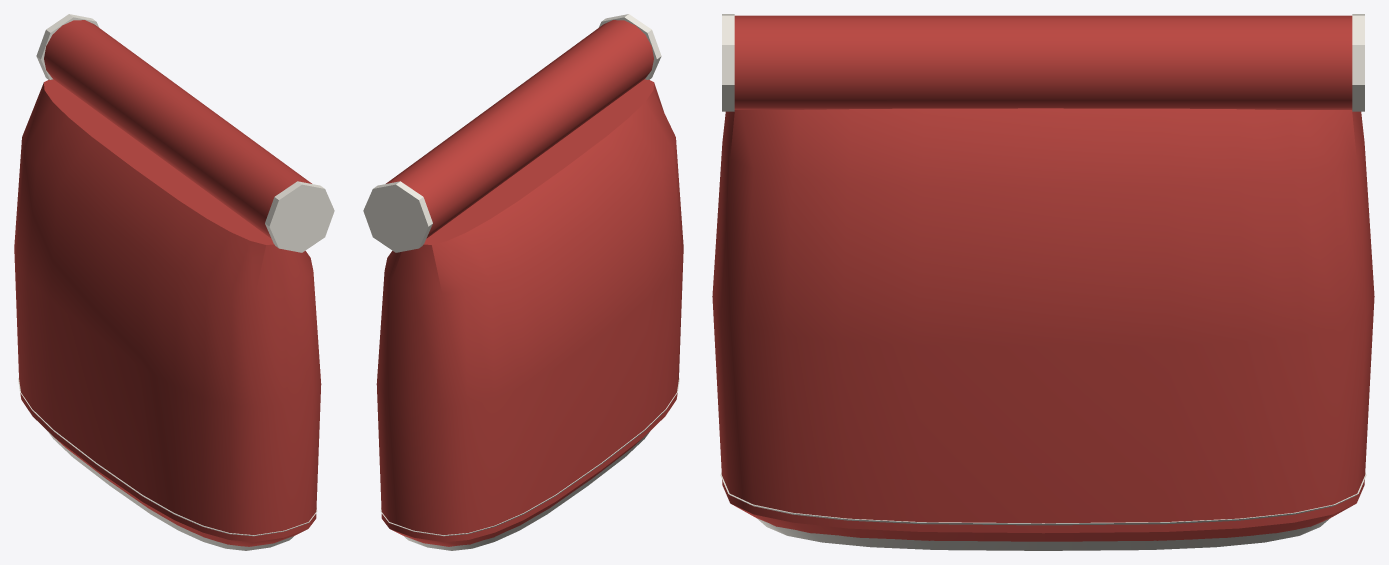
File: roll_pannier.glb
The picture shows the model from 3 angles, left to right: view 1: azimuth 30°, elevation 25°; view 2: azimuth 150°, elevation 25°; view 3: azimuth 270°, elevation 25°; orthographic projection. The views are drawn at different scales.
Visible parts, largest first — view 1: lod0; view 2: lod0; view 3: lod0.
Boxes of the visible parts, left/top/right/bottom form: lod0: left=14, top=14, right=334, bottom=550; lod0: left=363, top=14, right=683, bottom=550; lod0: left=712, top=14, right=1374, bottom=550.
Size of what is drawn, in the model's own units: 0.15 by 0.356 by 0.42.
